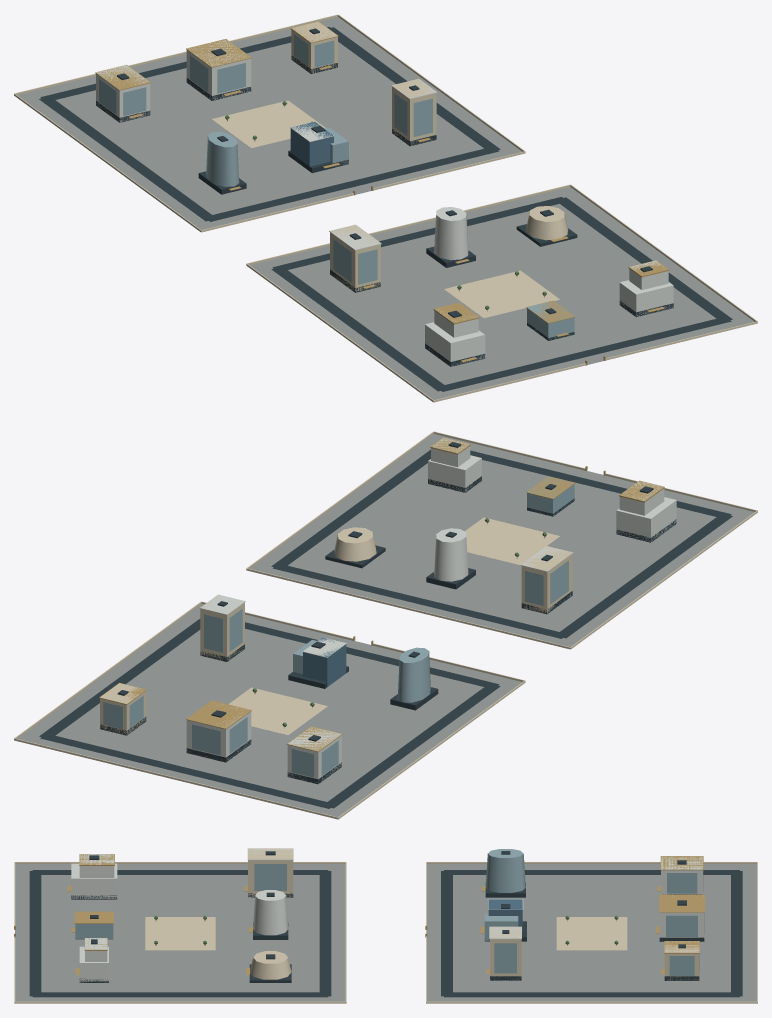
Rendered from GC-TILE-12-21.glb.
3 renders of one model, top to bottom at view 1: azimuth 30°, elevation 25°; view 2: azimuth 150°, elevation 25°; view 3: azimuth 270°, elevation 25°, orthographic. The views are drawn at different scales.
Visible parts, largest first — view 1: GC-TILE-12-21-paving, GC-TILE-12-21-dark, GC-TILE-12-21-ivory, GC-TILE-12-21-white, GC-TILE-12-21-glass, GC-TILE-12-21-gold, GC-TILE-12-21-blue; view 2: GC-TILE-12-21-paving, GC-TILE-12-21-dark, GC-TILE-12-21-ivory, GC-TILE-12-21-white, GC-TILE-12-21-glass, GC-TILE-12-21-gold, GC-TILE-12-21-blue; view 3: GC-TILE-12-21-paving, GC-TILE-12-21-dark, GC-TILE-12-21-ivory, GC-TILE-12-21-white, GC-TILE-12-21-glass, GC-TILE-12-21-gold, GC-TILE-12-21-blue.
Boxes of the visible parts, x1,y1,x2,y2 form: GC-TILE-12-21-paving: (17,17,754,399); GC-TILE-12-21-dark: (39,27,732,391); GC-TILE-12-21-ivory: (14,14,757,402); GC-TILE-12-21-white: (96,40,673,366); GC-TILE-12-21-glass: (99,34,574,339); GC-TILE-12-21-gold: (95,21,669,365); GC-TILE-12-21-blue: (290,121,333,166); GC-TILE-12-21-paving: (17,434,754,816); GC-TILE-12-21-dark: (39,442,732,808); GC-TILE-12-21-ivory: (14,431,757,819); GC-TILE-12-21-white: (186,437,676,783); GC-TILE-12-21-glass: (103,476,574,777); GC-TILE-12-21-gold: (99,437,664,752); GC-TILE-12-21-blue: (303,637,346,686); GC-TILE-12-21-paving: (15,864,756,1001); GC-TILE-12-21-dark: (29,851,742,997); GC-TILE-12-21-ivory: (14,848,757,1003); GC-TILE-12-21-white: (71,848,704,982); GC-TILE-12-21-glass: (75,849,704,975); GC-TILE-12-21-gold: (14,854,704,974); GC-TILE-12-21-blue: (488,899,522,931).
Bounding box in the file's own units: 339 × 49.21 × 760.
